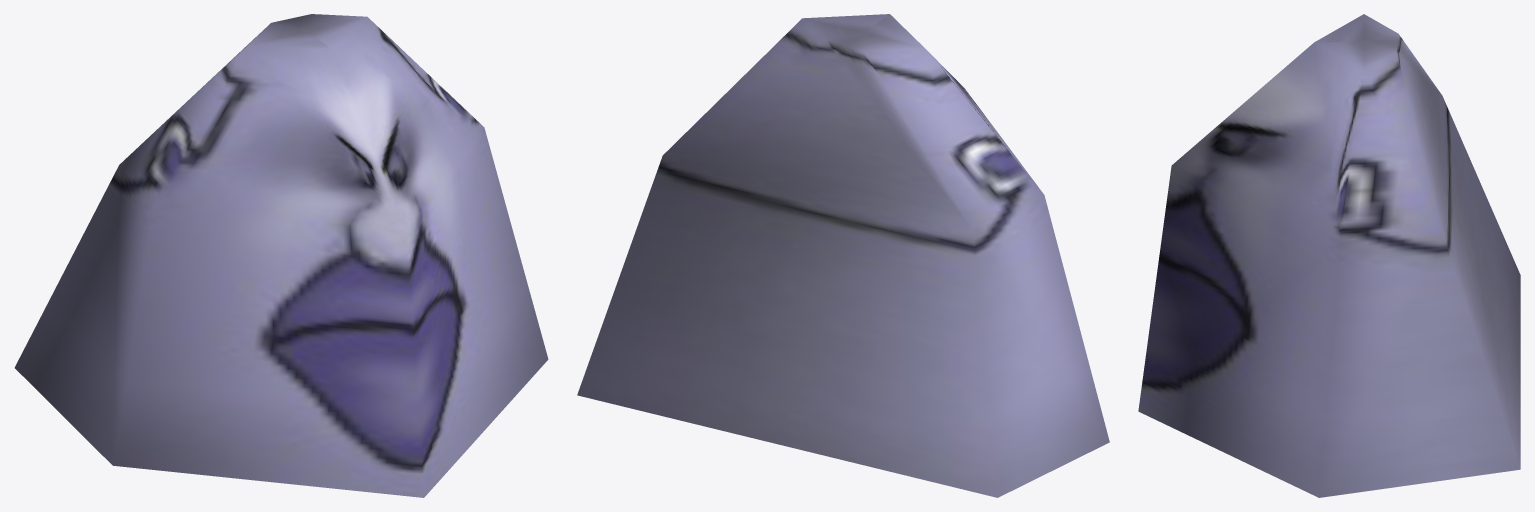
3 renders of one model, left to right at view 1: azimuth 30°, elevation 25°; view 2: azimuth 150°, elevation 25°; view 3: azimuth 270°, elevation 25°, orthographic. The views are drawn at different scales.
Parts seen in each view (by area): view 1: tightwad; view 2: tightwad; view 3: tightwad.
Boxes of the visible parts, x1,y1,x2,y2 form: tightwad: (14,14,548,497); tightwad: (577,14,1109,497); tightwad: (1138,14,1520,497).
Bounding box in the file's own units: 1.21 × 1.01 × 0.9482.
Materials: 1 (1 with a texture image).
